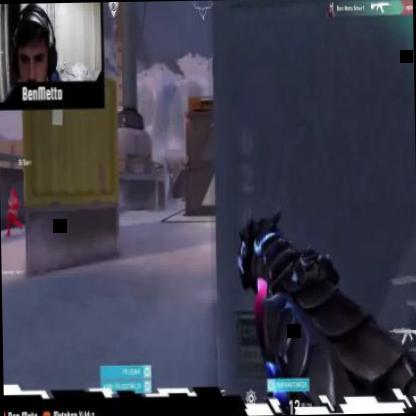enemy: (4, 188, 22, 238)
enemy_head: (10, 188, 16, 198)
